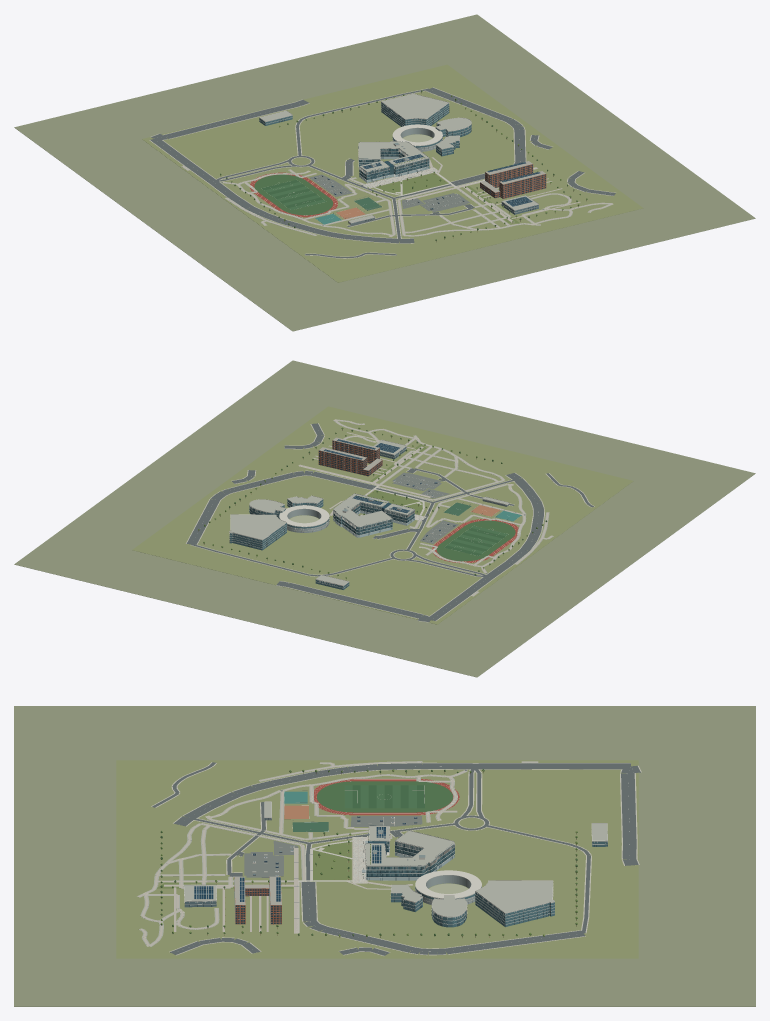
Rendered from bitgaram-kentech.glb.
3 views of the same model, one above another, from view 1: azimuth 30°, elevation 25°; view 2: azimuth 150°, elevation 25°; view 3: azimuth 270°, elevation 25° (orthographic). The views are drawn at different scales.
Parts seen in each view (by area): view 1: campus_batch_Museum_99a184, campus_batch_Museum_98a274, campus_batch_Museum_697373, campus_batch_Museum_cfcebf, campus_batch_Museum_c8c4b8, campus_batch_Museum_b9bdb1.001, campus_batch_Museum_b9bdb1, campus_batch_Museum_dddcd1, campus_batch_Museum_345765, campus_batch_Museum_838b85, campus_batch_Museum_557c51, campus_batch_Museum_ad7057 (+6 smaller); view 2: campus_batch_Museum_99a184, campus_batch_Museum_98a274, campus_batch_Museum_697373, campus_batch_Museum_cfcebf, campus_batch_Museum_b9bdb1.001, campus_batch_Museum_c8c4b8, campus_batch_Museum_b9bdb1, campus_batch_Museum_dddcd1, campus_batch_Museum_345765, campus_batch_Museum_838b85, campus_batch_Museum_557c51, campus_batch_Museum_ad7057 (+4 smaller); view 3: campus_batch_Museum_99a184, campus_batch_Museum_98a274, campus_batch_Museum_697373, campus_batch_Museum_b9bdb1.001, campus_batch_Museum_c8c4b8, campus_batch_Museum_cfcebf, campus_batch_Museum_b9bdb1, campus_batch_Museum_dddcd1, campus_batch_Museum_557c51, campus_batch_Museum_838b85, campus_batch_Museum_82945e, campus_building_1460776854 (+11 smaller).
Part boxes in pixels (<box>): campus_batch_Museum_99a184: <box>14,14,755,331</box>; campus_batch_Museum_98a274: <box>142,64,643,282</box>; campus_batch_Museum_697373: <box>150,87,615,257</box>; campus_batch_Museum_cfcebf: <box>149,87,615,258</box>; campus_batch_Museum_c8c4b8: <box>182,157,612,236</box>; campus_batch_Museum_b9bdb1.001: <box>260,93,537,222</box>; campus_batch_Museum_b9bdb1: <box>181,160,612,236</box>; campus_batch_Museum_dddcd1: <box>259,93,538,224</box>; campus_batch_Museum_345765: <box>359,150,545,198</box>; campus_batch_Museum_838b85: <box>309,174,469,212</box>; campus_batch_Museum_557c51: <box>254,174,333,215</box>; campus_batch_Museum_ad7057: <box>480,164,546,198</box>; campus_batch_Museum_99a184: <box>14,360,755,677</box>; campus_batch_Museum_98a274: <box>132,406,633,624</box>; campus_batch_Museum_697373: <box>186,423,593,621</box>; campus_batch_Museum_cfcebf: <box>186,419,594,622</box>; campus_batch_Museum_b9bdb1.001: <box>229,440,508,585</box>; campus_batch_Museum_c8c4b8: <box>298,419,552,596</box>; campus_batch_Museum_b9bdb1: <box>333,419,553,596</box>; campus_batch_Museum_dddcd1: <box>229,439,509,588</box>; campus_batch_Museum_345765: <box>319,441,414,534</box>; campus_batch_Museum_838b85: <box>392,472,458,543</box>; campus_batch_Museum_557c51: <box>436,520,515,561</box>; campus_batch_Museum_ad7057: <box>318,440,382,476</box>; campus_batch_Museum_99a184: <box>14,706,755,1006</box>; campus_batch_Museum_98a274: <box>116,760,638,958</box>; campus_batch_Museum_697373: <box>152,762,640,955</box>; campus_batch_Museum_b9bdb1.001: <box>184,802,607,917</box>; campus_batch_Museum_c8c4b8: <box>138,761,538,946</box>; campus_batch_Museum_cfcebf: <box>142,762,641,955</box>; campus_batch_Museum_b9bdb1: <box>137,761,537,946</box>; campus_batch_Museum_dddcd1: <box>183,801,607,924</box>; campus_batch_Museum_557c51: <box>317,781,452,812</box>; campus_batch_Museum_838b85: <box>244,816,422,877</box>; campus_batch_Museum_82945e: <box>157,840,351,888</box>; campus_building_1460776854: <box>475,892,554,926</box>.
Size of the model in its own units: 940 by 29.6 by 980.
